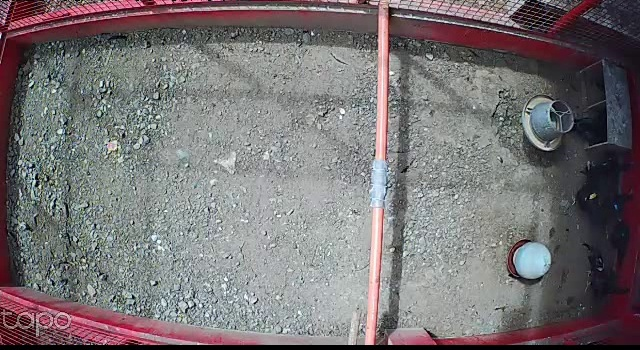Rooster: (580, 242, 632, 299)
Saddle_Color_Yellow: (587, 190, 597, 199)
